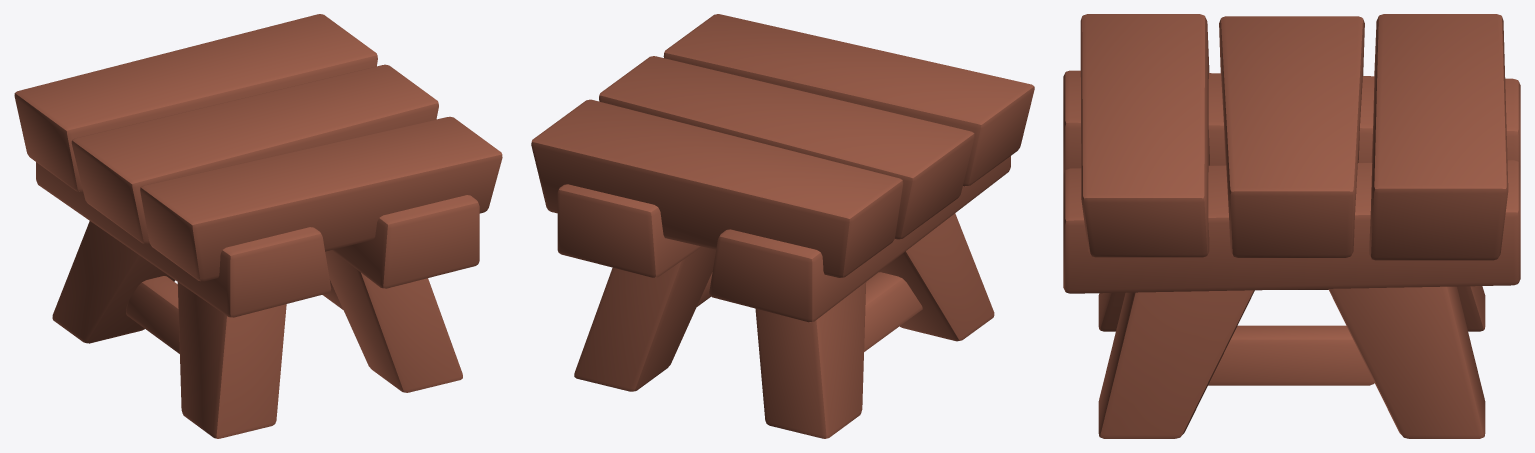
The model's file is kaykit-tablesmall.glb.
3 renders of one model, left to right at view 1: azimuth 30°, elevation 25°; view 2: azimuth 150°, elevation 25°; view 3: azimuth 270°, elevation 25°, orthographic. The views are drawn at different scales.
Visible parts, largest first — view 1: tableSmall; view 2: tableSmall; view 3: tableSmall.
Boxes of the visible parts, <box> form: tableSmall: <box>14,14,502,438</box>; tableSmall: <box>531,14,1034,438</box>; tableSmall: <box>1063,14,1520,438</box>.
Size of the model in its own units: 0.9978 by 0.7074 by 1.08.
